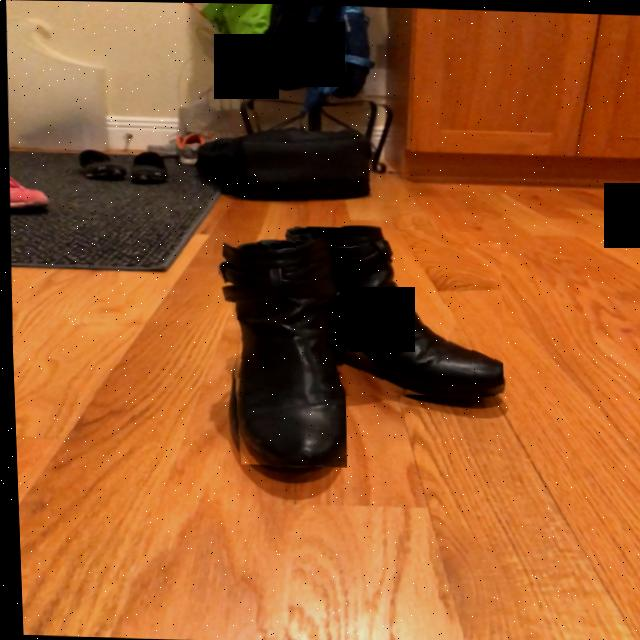shoe: (293, 225, 500, 395), (224, 234, 342, 465)
